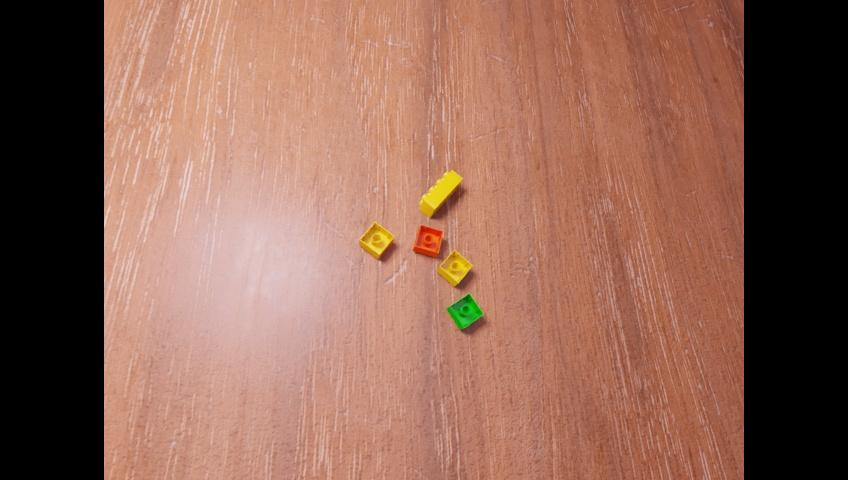2x2_green: (446, 292, 482, 329)
2x2_orange: (413, 225, 443, 257)
2x2_yellow: (358, 221, 393, 258), (437, 249, 472, 285)
4x2_yellow: (419, 169, 461, 218)
